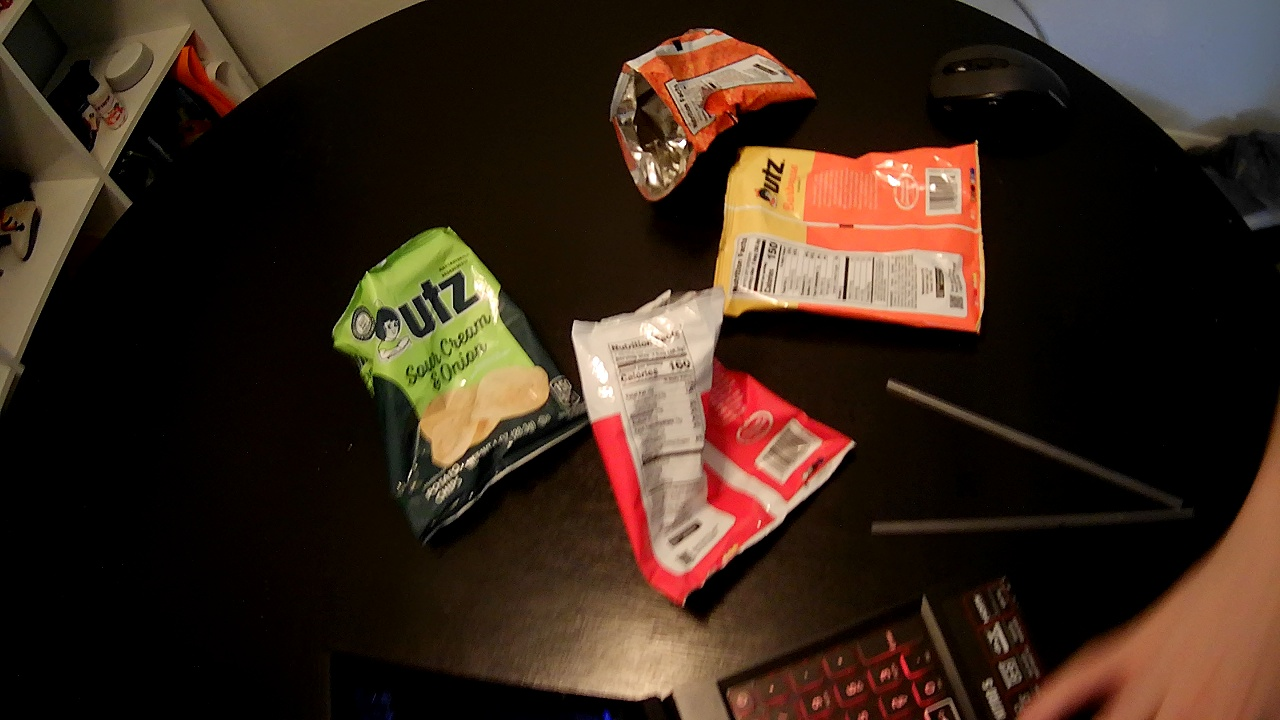trash: (323, 234, 586, 531)
